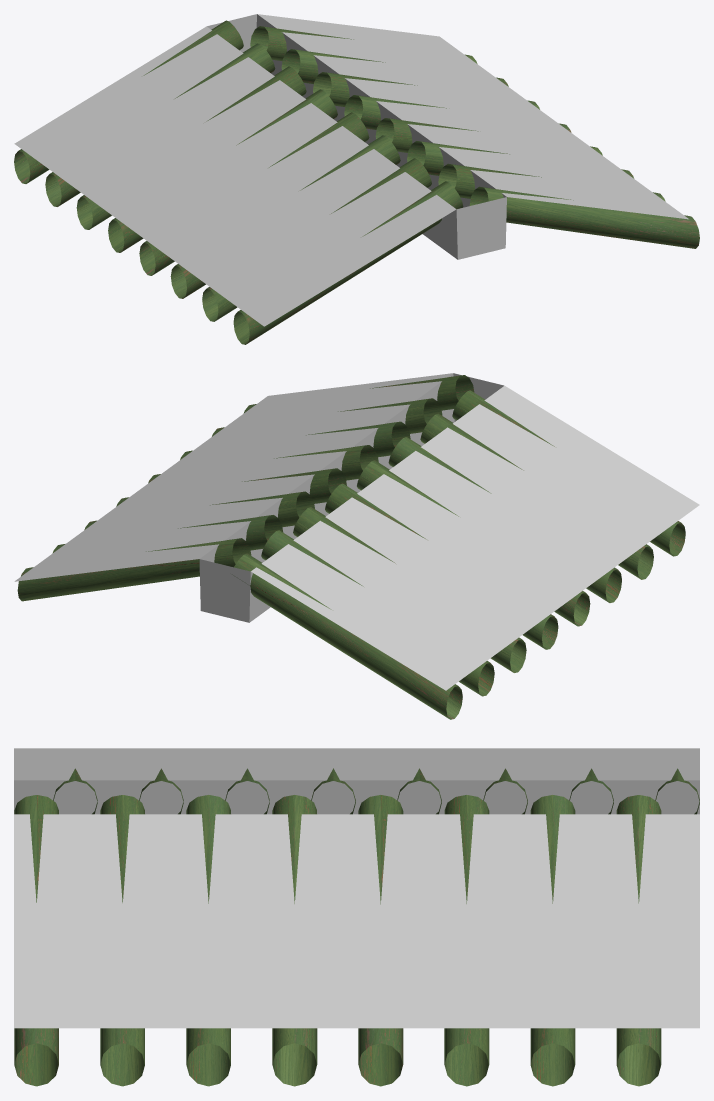
File: SM_Giwa01B-b.fbx
3 views of the same model, one above another, from view 1: azimuth 30°, elevation 25°; view 2: azimuth 150°, elevation 25°; view 3: azimuth 270°, elevation 25° (orthographic). The views are drawn at different scales.
Visible parts, largest first — view 1: SM_Giwa01B-b; view 2: SM_Giwa01B-b; view 3: SM_Giwa01B-b.
Part boxes in pixels (<box>): SM_Giwa01B-b: <box>14,14,699,344</box>; SM_Giwa01B-b: <box>14,373,699,719</box>; SM_Giwa01B-b: <box>14,748,699,1086</box>.
Bounding box in the file's own units: 247 × 246 × 60.28.
